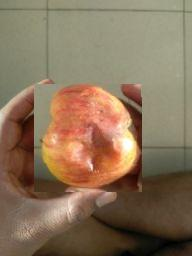Apple Semirotten: (35, 84, 143, 192)
